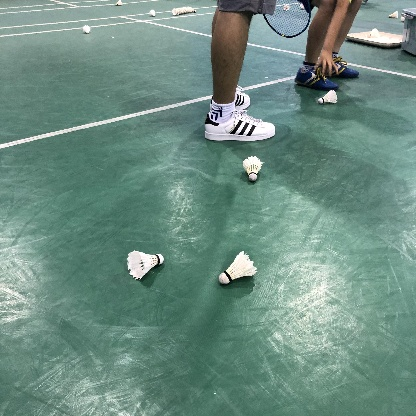ball_single: (219, 251, 258, 284), (127, 251, 164, 280), (243, 156, 262, 181), (318, 89, 338, 104), (172, 6, 196, 15), (83, 25, 90, 34), (149, 9, 155, 17), (115, 0, 123, 6)
